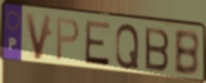B: (173, 29, 201, 78), (144, 26, 171, 73)
E: (83, 19, 112, 68)
P: (55, 17, 81, 63)
Q: (114, 22, 140, 70)
V: (24, 12, 54, 62)
